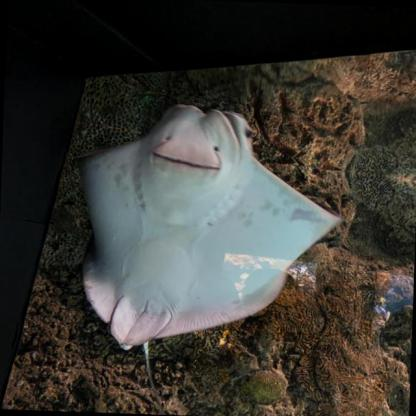stingray: (62, 100, 347, 358)
